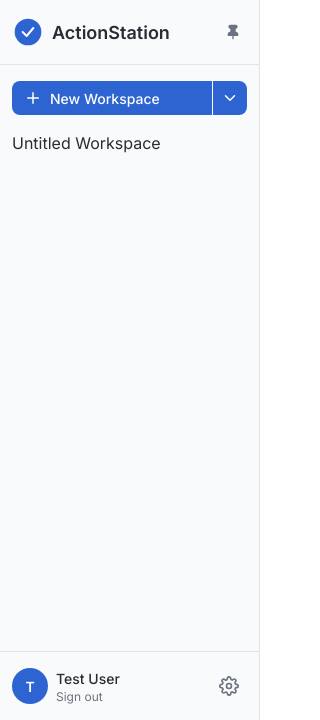
Sidebar › split button dropdown › toggles dropdown when chevron is clicked
Expected: the text "Add Divider" is not shown
Note: Click chevron
Click the button named "New Workspace Options" at (230, 98), box [213, 81, 247, 115]
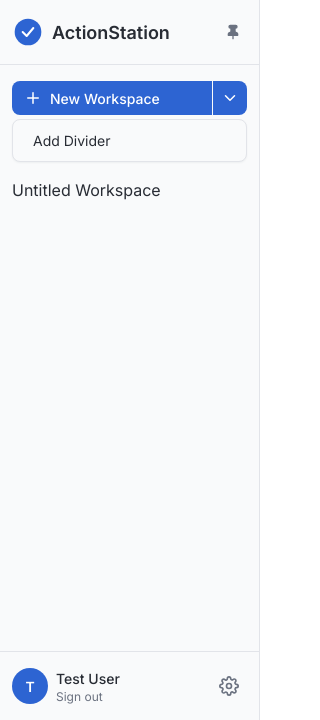
Expected: the button "Add Divider" is shown, [17, 124, 242, 157]
Note: Click chevron again to close
Click the button named "New Workspace Options" at (230, 98), box [213, 81, 247, 115]
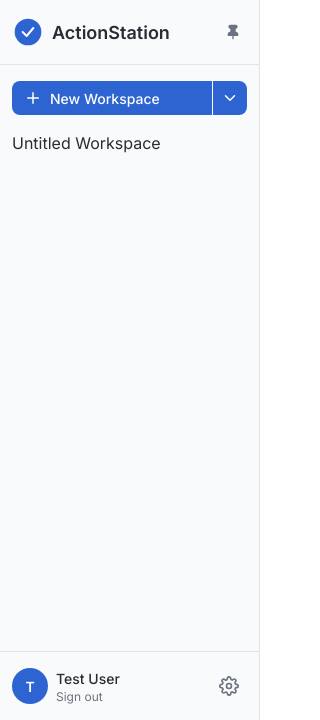
Expected: the button "Add Divider" is gone
